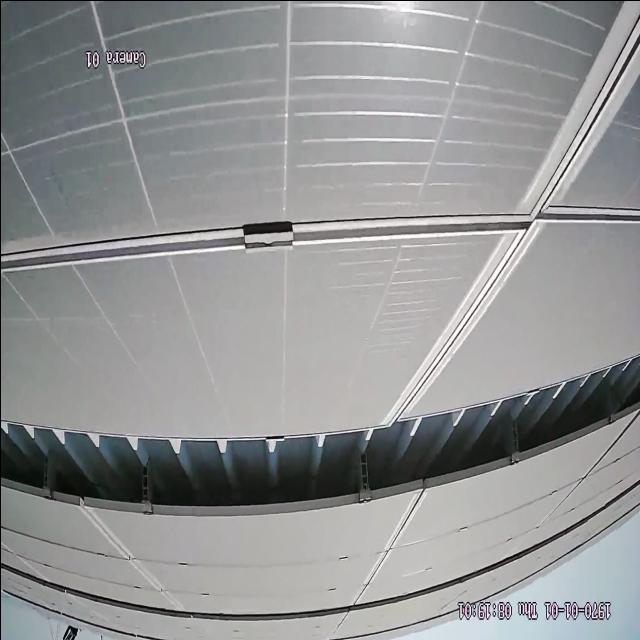interior panel: (355, 497, 424, 599), (91, 515, 175, 598)
outher panel: (3, 356, 639, 515)
